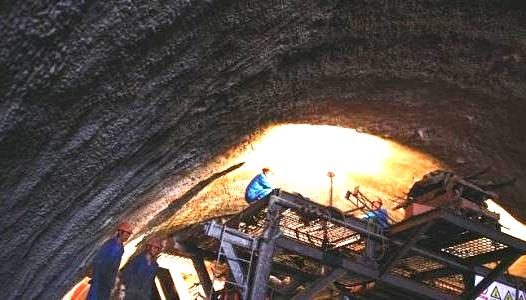helmet: (116, 222, 133, 242), (147, 238, 163, 256), (370, 196, 383, 211), (262, 165, 275, 179)
